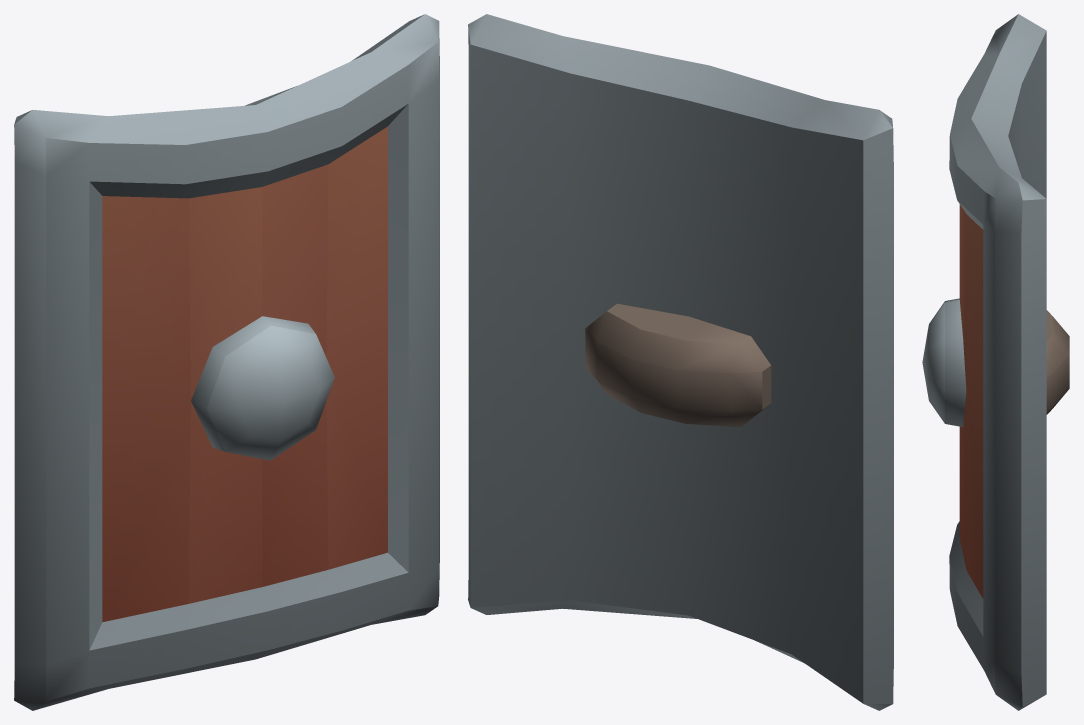
The model's file is shield_square.glb.
3 views of the same model, side by side, from view 1: azimuth 30°, elevation 25°; view 2: azimuth 150°, elevation 25°; view 3: azimuth 270°, elevation 25° (orthographic). The views are drawn at different scales.
Size of the model in its own units: 0.8826 by 1.19 by 0.3011.
Materials: 1 (1 with a texture image).
